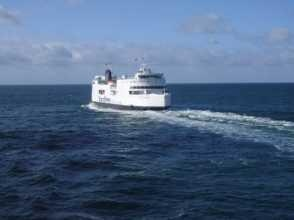otherboat: (88, 55, 176, 115)
